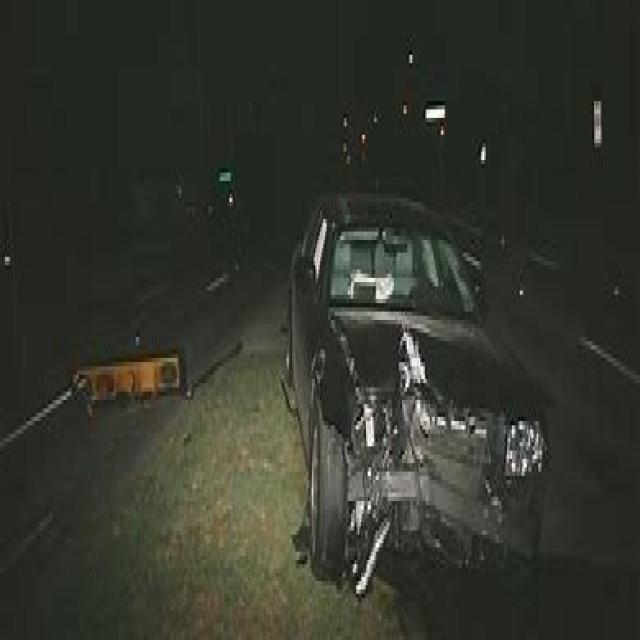Accident: (279, 172, 589, 640)
